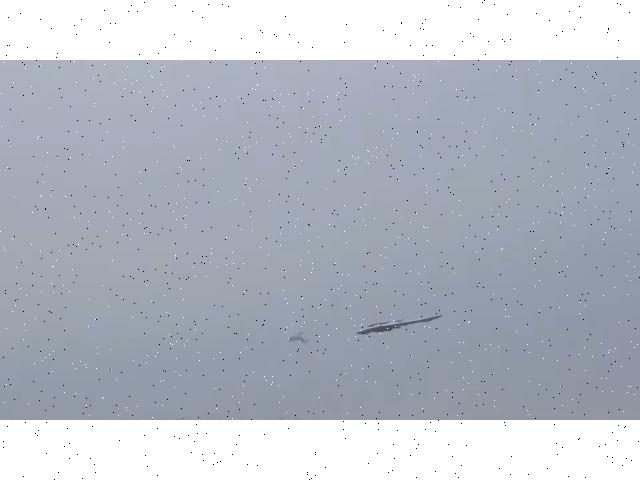Anti-Drone: (356, 315, 440, 335)
